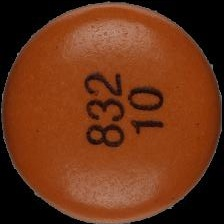0832-0300: (0, 0, 224, 224)
